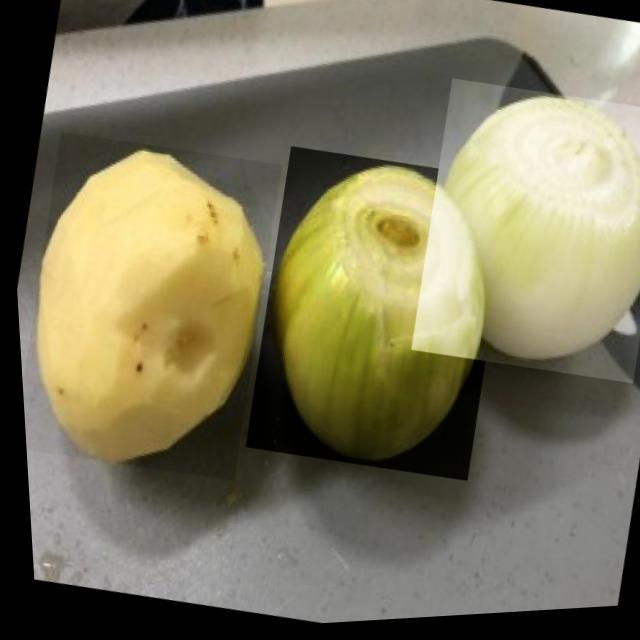Potato: (7, 120, 294, 492), (225, 140, 523, 497), (392, 74, 640, 402)
